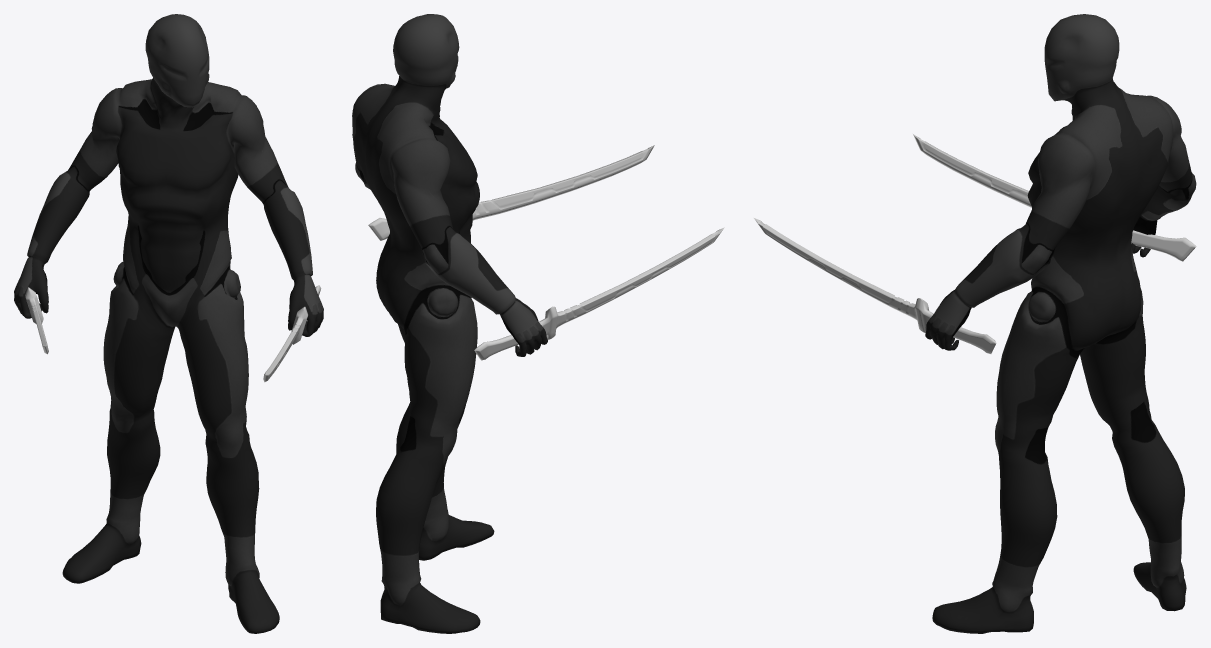
3 renders of one model, left to right at view 1: azimuth 30°, elevation 25°; view 2: azimuth 150°, elevation 25°; view 3: azimuth 270°, elevation 25°, orthographic. The views are drawn at different scales.
Visible parts, largest first — view 1: Cyborg_Ninja_Killer, Sword_l, Sword_l001; view 2: Cyborg_Ninja_Killer, Sword_l001, Sword_l; view 3: Cyborg_Ninja_Killer, Sword_l, Sword_l001.
Part boxes in pixels (x1,y1,x2,y2): Cyborg_Ninja_Killer: [14, 14, 323, 633]; Sword_l: [263, 285, 321, 382]; Sword_l001: [25, 287, 48, 354]; Cyborg_Ninja_Killer: [352, 14, 547, 633]; Sword_l001: [474, 227, 724, 360]; Sword_l: [368, 145, 654, 240]; Cyborg_Ninja_Killer: [925, 14, 1196, 633]; Sword_l: [754, 218, 996, 353]; Sword_l001: [913, 134, 1196, 261].
Size of the model in its own units: 106 by 182 by 123.
